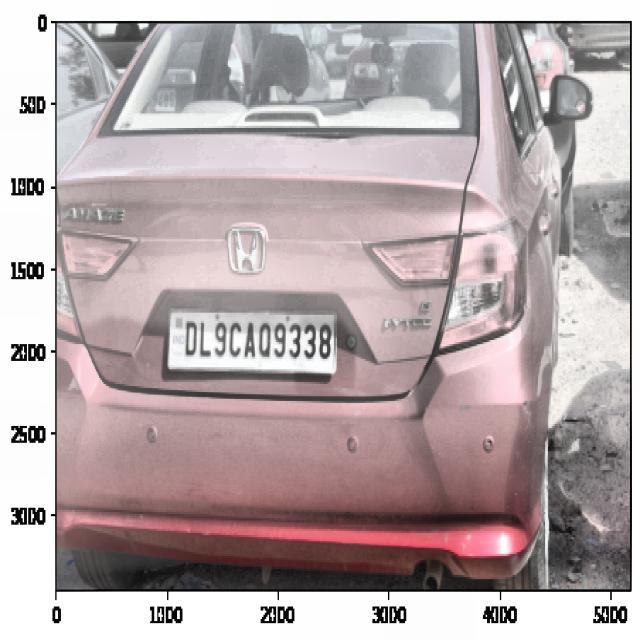license_plate: (178, 311, 336, 369)
